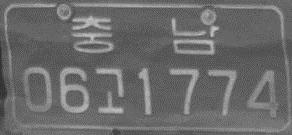0: (21, 66, 53, 113)
1: (131, 66, 161, 115)
4: (246, 70, 281, 118)
6: (58, 66, 91, 114)
7: (168, 67, 200, 116), (206, 68, 238, 116)
고: (95, 67, 126, 114)
충남_D: (71, 14, 219, 58)
